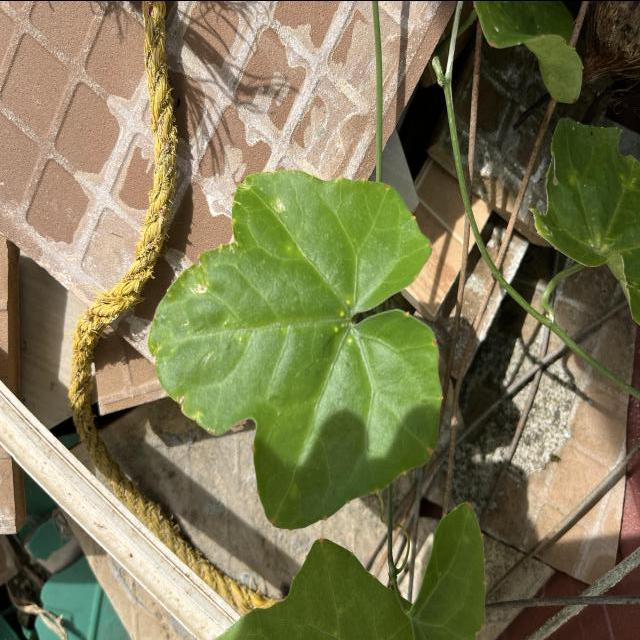Coccinia grandis: (146, 166, 446, 534)
